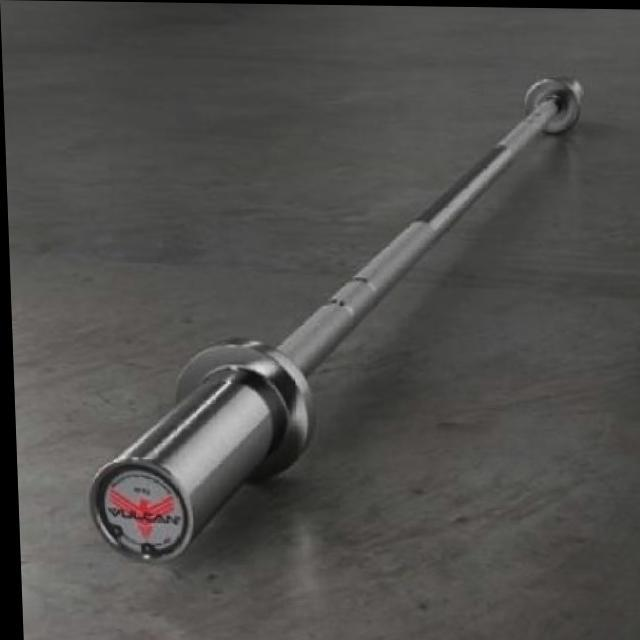barbell: (78, 329, 318, 574)
